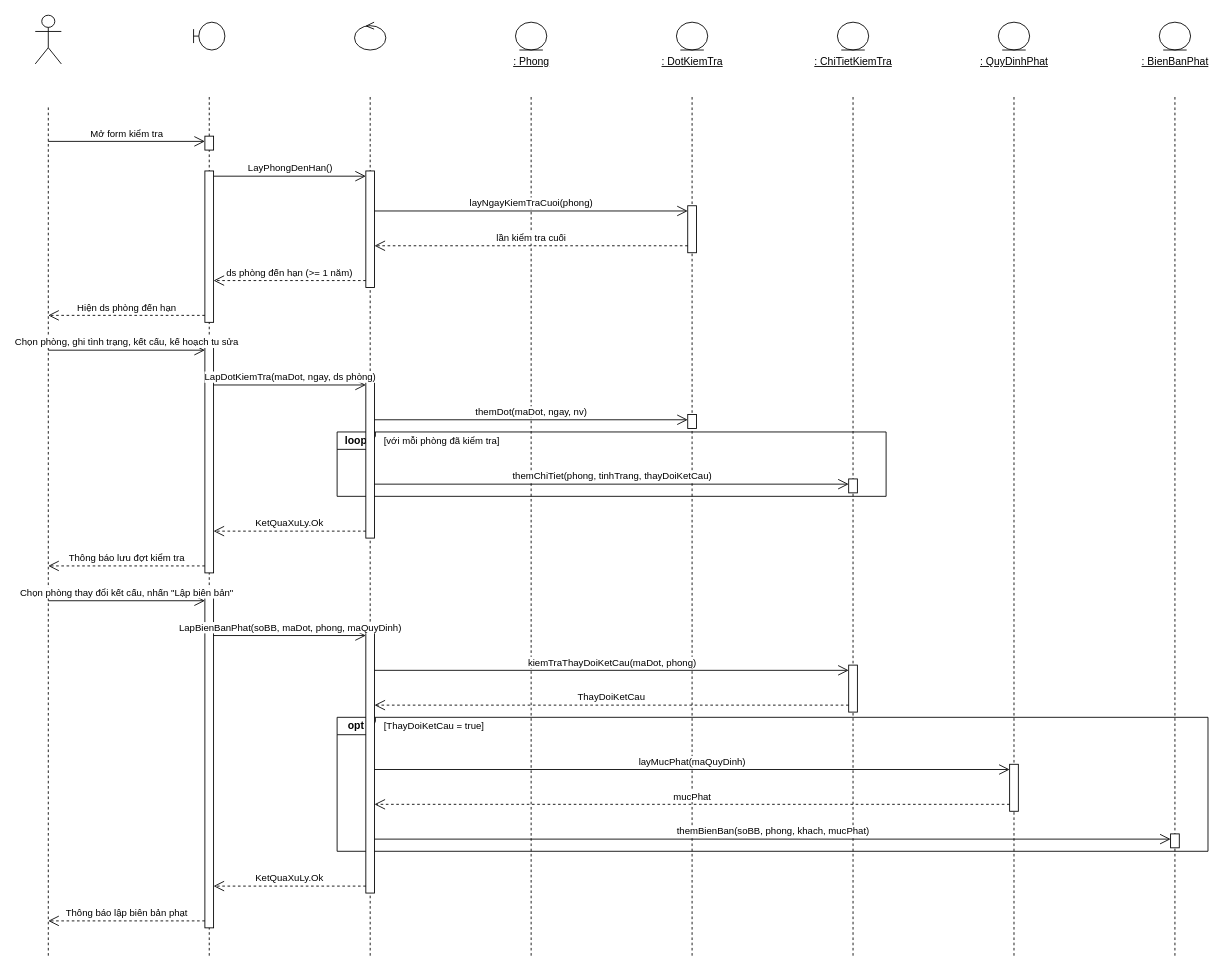
This 1223x972 diagram has some shape labels left out. The shapes that lost their labels are listed below. From the top down, each one's centre as x and y in pixels, then its label:
At point 47,39: ": NV kỹ thuật".
At point 209,35: ": FrmKiemTra".
At point 370,35: ": KiemTraService".
